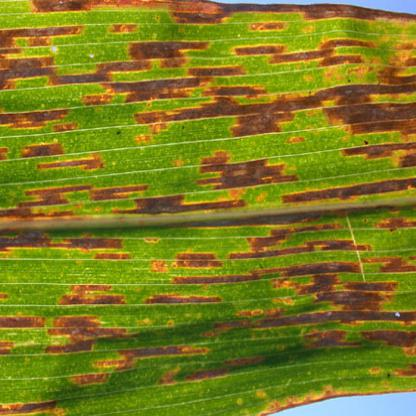Corn Gray leaf spot: (1, 1, 415, 415)
